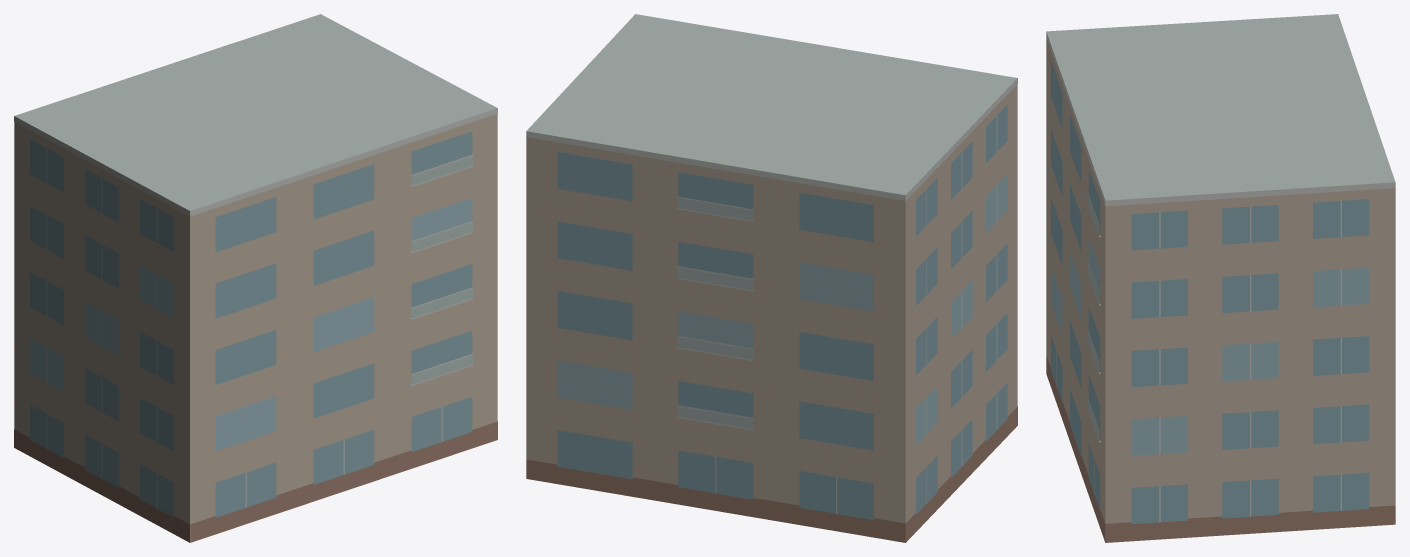
Rendered from survey-upis-32943639.glb.
The picture shows the model from 3 angles, left to right: view 1: azimuth 30°, elevation 25°; view 2: azimuth 150°, elevation 25°; view 3: azimuth 270°, elevation 25°; orthographic projection. The views are drawn at different scales.
Parts seen in each view (by area): view 1: survey-upis-32943639.tmp; view 2: survey-upis-32943639.tmp; view 3: survey-upis-32943639.tmp.
Boxes of the visible parts, x1,y1,x2,y2 form: survey-upis-32943639.tmp: [14, 14, 497, 542]; survey-upis-32943639.tmp: [526, 14, 1017, 542]; survey-upis-32943639.tmp: [1046, 14, 1395, 542].
Bounding box in the file's own units: 16.97 × 14.5 × 13.42.
